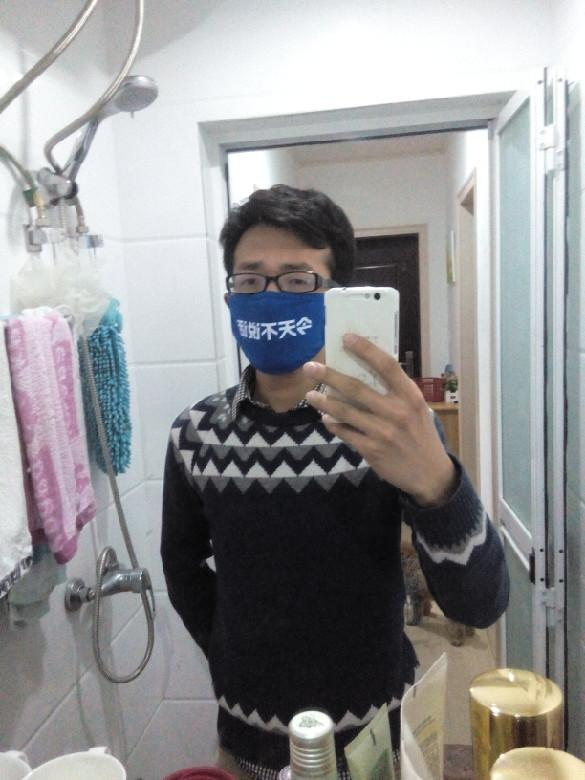OK: (222, 248, 336, 369)
